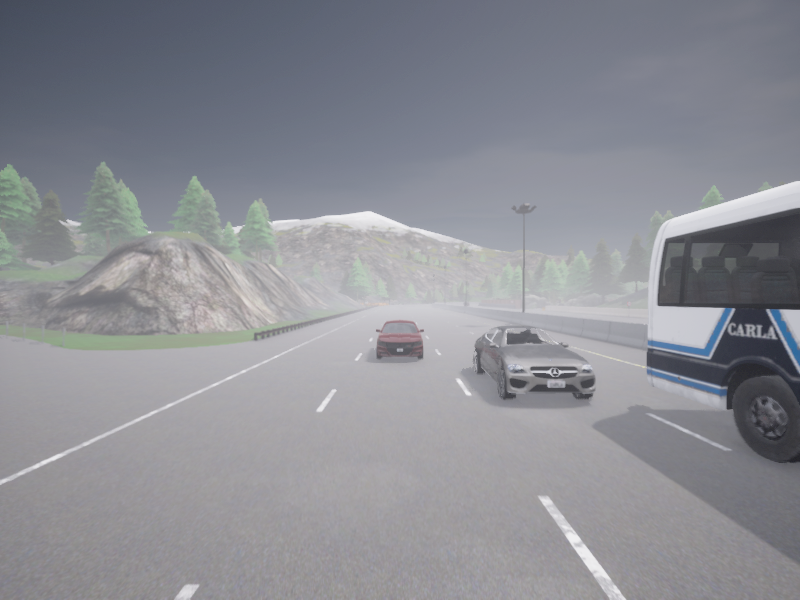vehicle: (646, 181, 799, 461), (474, 326, 595, 399), (376, 320, 423, 359), (463, 301, 468, 305)
